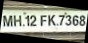character: (2, 14, 13, 27), (13, 14, 22, 27), (47, 14, 56, 26), (40, 14, 47, 26), (72, 14, 79, 26), (65, 13, 71, 26), (58, 14, 65, 25), (24, 14, 30, 26), (30, 14, 36, 26), (79, 15, 86, 25)
